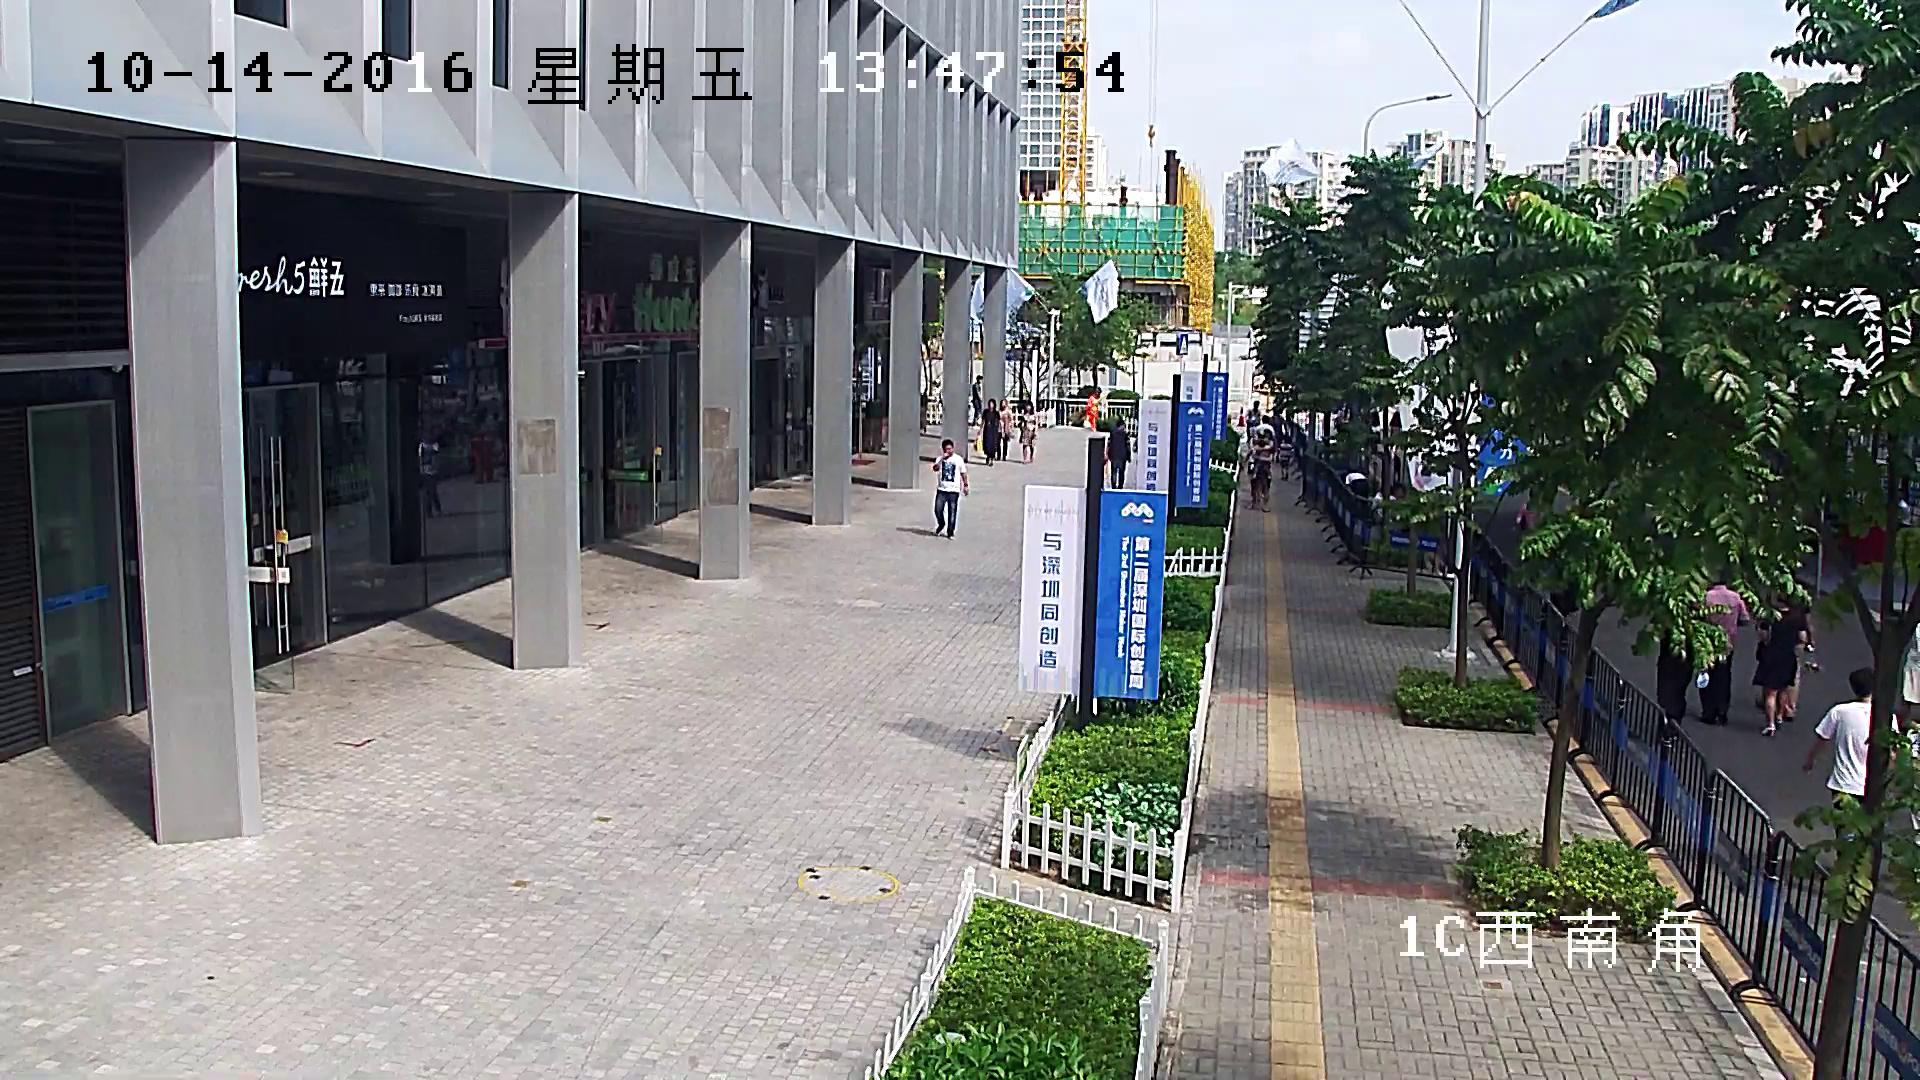person: (1802, 667, 1901, 893), (1699, 571, 1751, 725), (1758, 593, 1806, 739), (1653, 631, 1693, 748), (931, 439, 970, 540), (417, 430, 444, 521), (1248, 433, 1273, 513), (1107, 420, 1132, 490), (978, 399, 1000, 467), (994, 399, 1014, 462), (1020, 401, 1038, 464), (1276, 438, 1295, 481), (1086, 388, 1103, 433), (971, 375, 982, 425), (1246, 401, 1260, 432), (1271, 407, 1283, 434)
